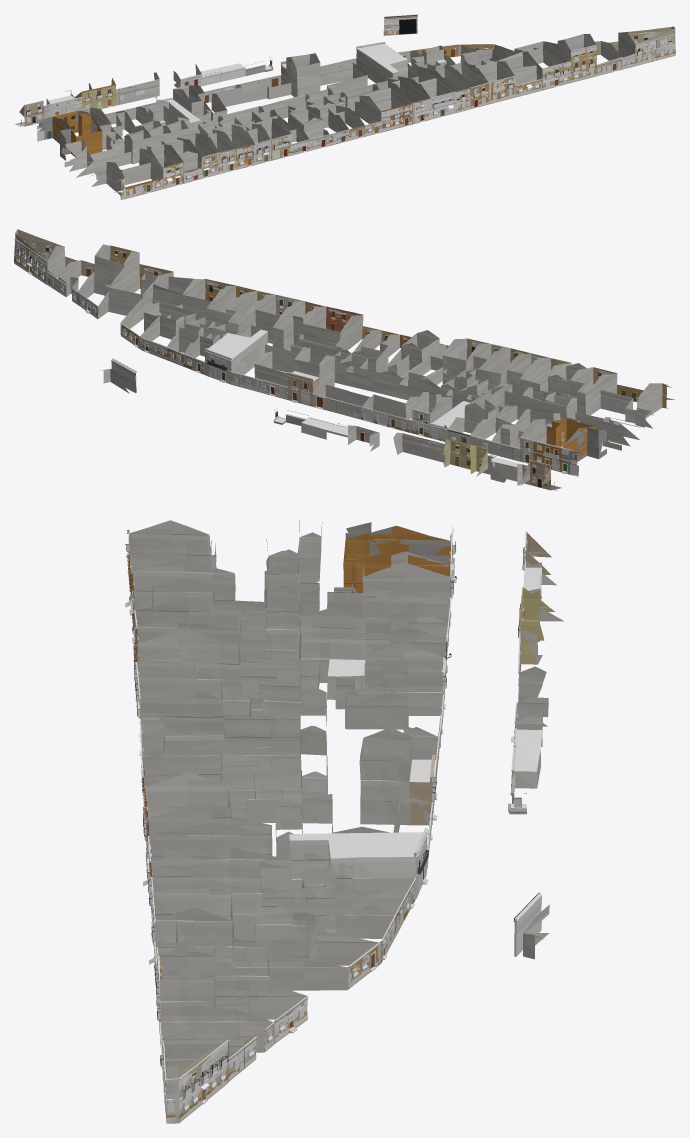
The model's file is zona_3_-2.glb.
3 renders of one model, top to bottom at view 1: azimuth 30°, elevation 25°; view 2: azimuth 150°, elevation 25°; view 3: azimuth 270°, elevation 25°, orthographic. The views are drawn at different scales.
Visible parts, largest first — view 1: z_casas_3_-2, z_fachadas_3_-2, z_casas_planas_3_-2; view 2: z_casas_3_-2, z_fachadas_3_-2, z_casas_planas_3_-2; view 3: z_casas_3_-2, z_casas_planas_3_-2, z_fachadas_3_-2.
Part boxes in pixels (x1,y1,x2,y2): z_casas_3_-2: [19, 26, 675, 199]; z_fachadas_3_-2: [19, 14, 675, 199]; z_casas_planas_3_-2: [15, 17, 446, 128]; z_casas_3_-2: [14, 229, 671, 490]; z_fachadas_3_-2: [14, 238, 674, 490]; z_casas_planas_3_-2: [111, 329, 561, 490]; z_casas_3_-2: [129, 519, 563, 1123]; z_casas_planas_3_-2: [289, 553, 542, 956]; z_fachadas_3_-2: [125, 526, 541, 1122].
Size of the model in its own units: 185 by 11.73 by 61.22.
